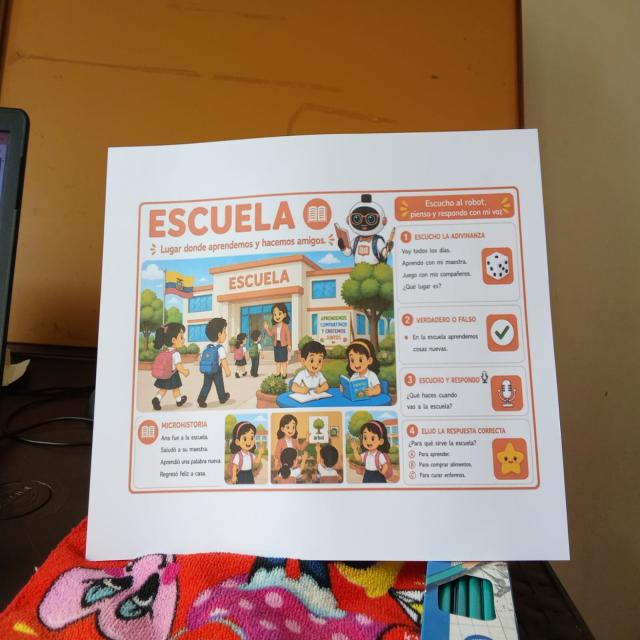escuela: (125, 182, 543, 498)
